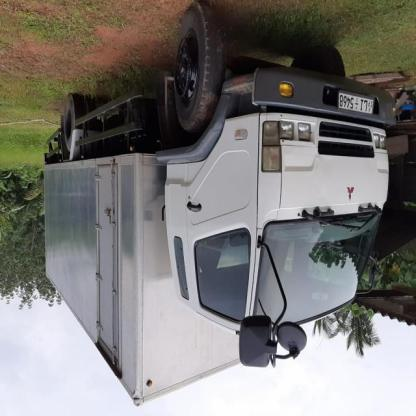truck: (43, 5, 404, 405)
